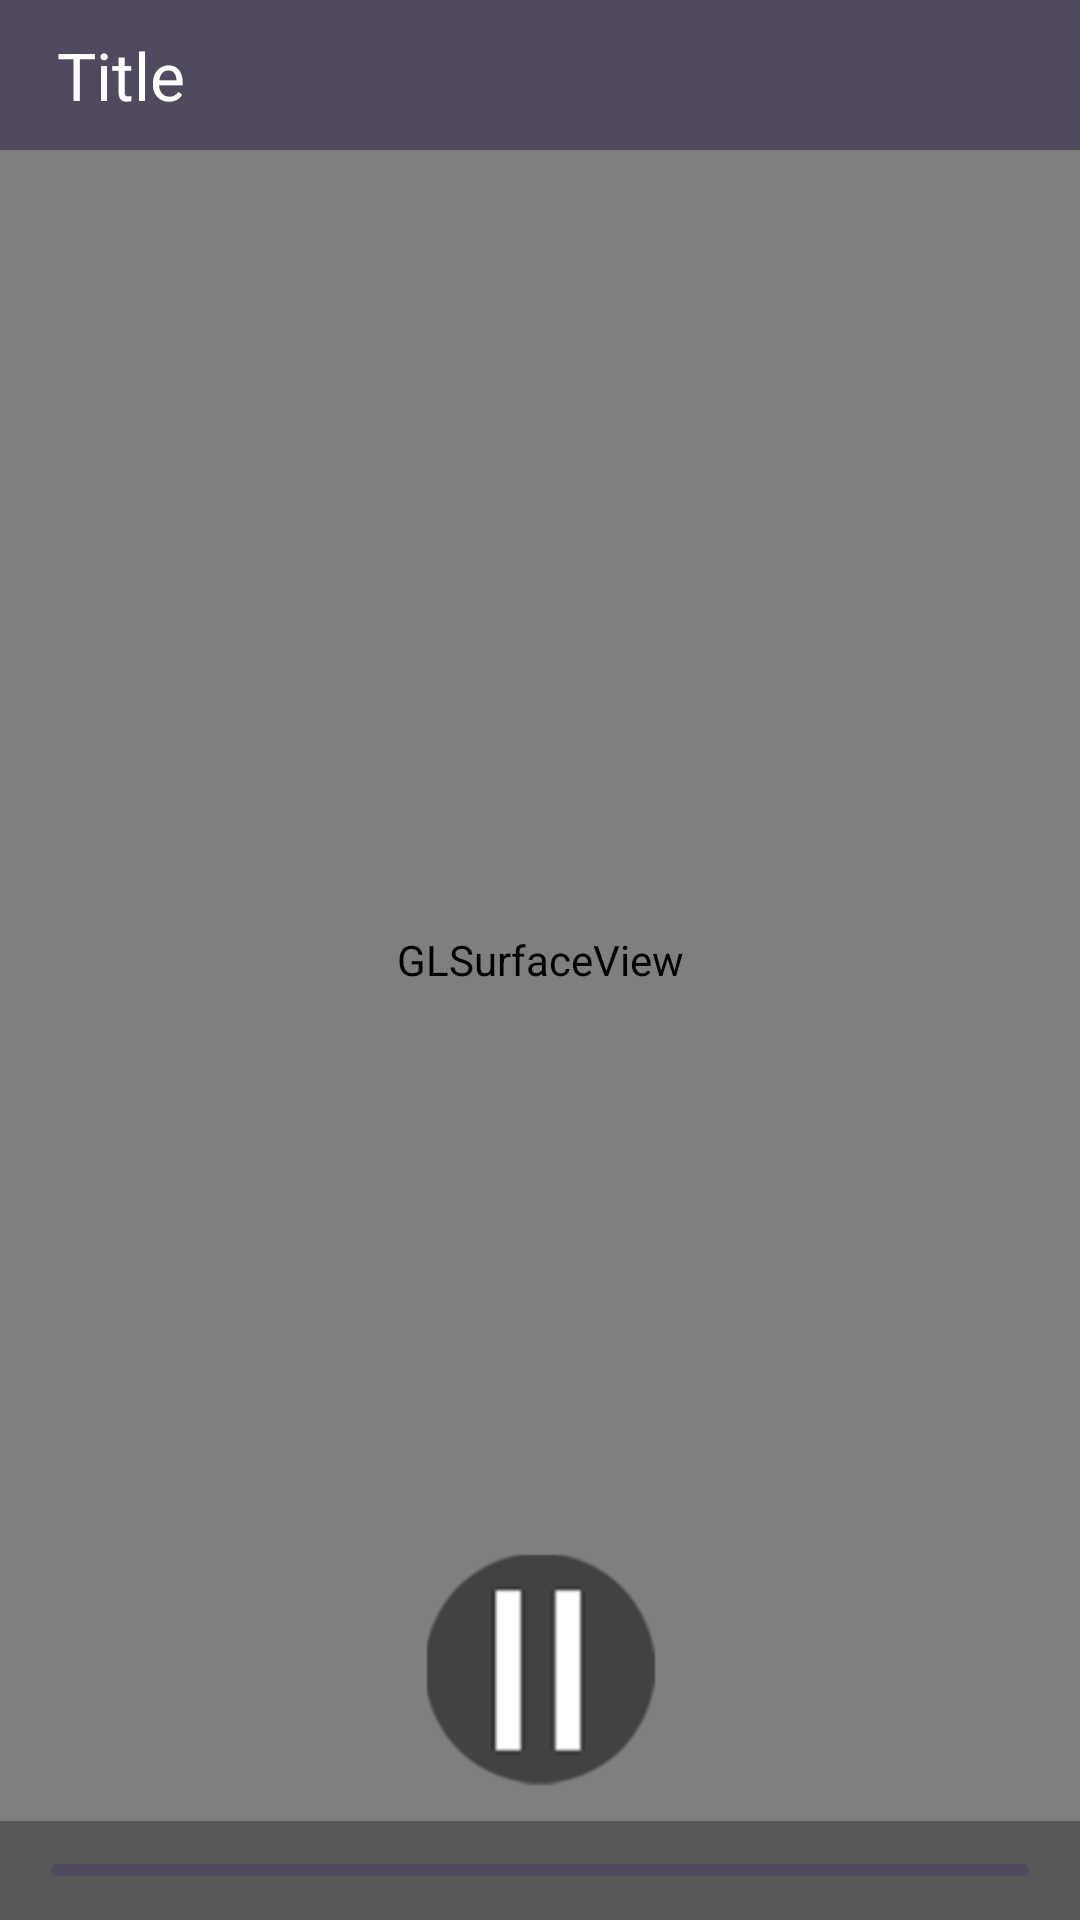

Where to tap for icons on this 1080 × 1920 app screen, as point (x, y):
player pause: point (541, 1670)
